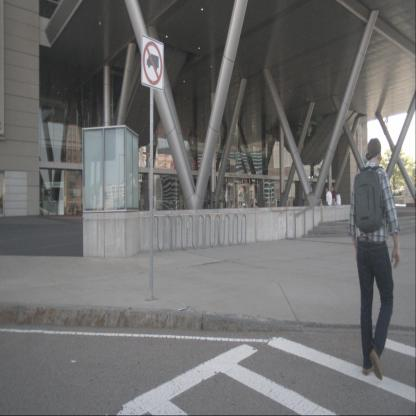human-pedestrian-adult: (347, 138, 401, 380), (322, 188, 332, 216), (330, 188, 338, 215)
